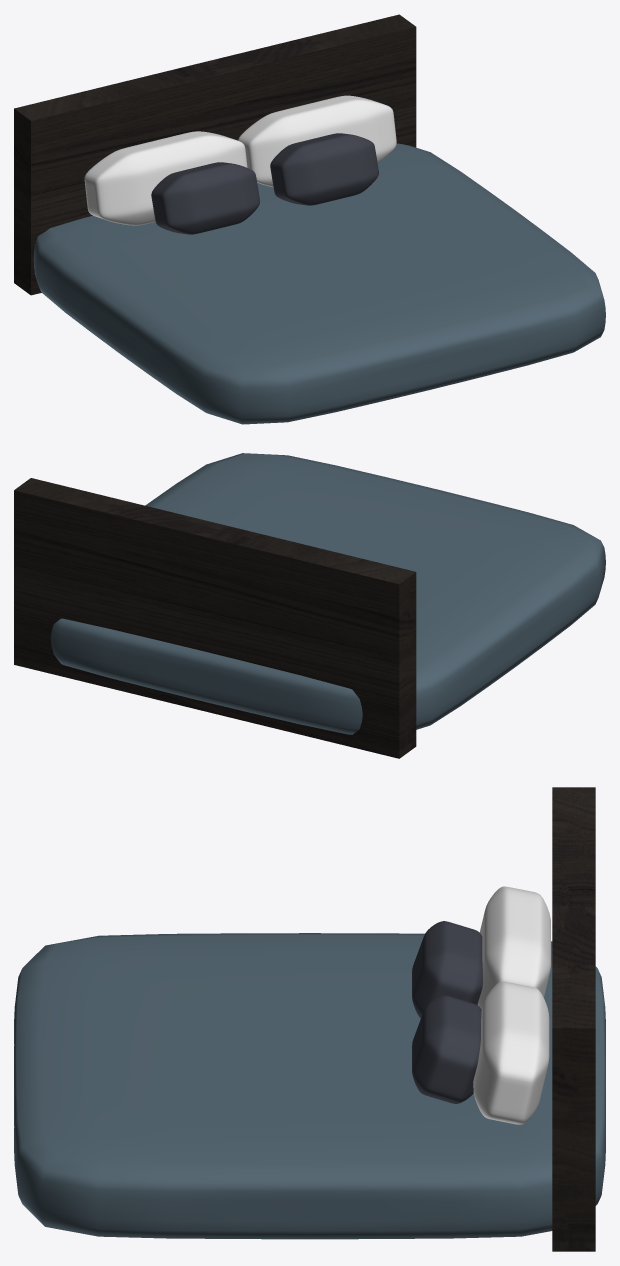
The model's file is bed.fbx.
3 views of the same model, one above another, from view 1: azimuth 30°, elevation 25°; view 2: azimuth 150°, elevation 25°; view 3: azimuth 270°, elevation 25° (orthographic). The views are drawn at different scales.
Parts seen in each view (by area): view 1: Cube, Cube.001, Cube.004, Cube.005, Cube.011, Cube.010; view 2: Cube, Cube.001; view 3: Cube, Cube.001, Cube.005, Cube.004, Cube.011, Cube.010.
Boxes of the visible parts, x1=… form: Cube: x1=33, y1=143, x2=605, y2=424; Cube.001: x1=14, y1=14, x2=416, y2=295; Cube.004: x1=84, y1=131, x2=247, y2=225; Cube.005: x1=238, y1=95, x2=396, y2=187; Cube.011: x1=270, y1=133, x2=378, y2=205; Cube.010: x1=151, y1=162, x2=259, y2=234; Cube: x1=50, y1=453, x2=605, y2=734; Cube.001: x1=14, y1=478, x2=416, y2=758; Cube: x1=14, y1=933, x2=605, y2=1239; Cube.001: x1=552, y1=787, x2=595, y2=1251; Cube.005: x1=473, y1=981, x2=549, y2=1124; Cube.004: x1=477, y1=886, x2=550, y2=1009; Cube.011: x1=412, y1=995, x2=481, y2=1103; Cube.010: x1=412, y1=921, x2=482, y2=1018.
Bounding box in the file's own units: 208 × 86.53 × 208.
